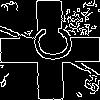C: (25, 25, 72, 63)
